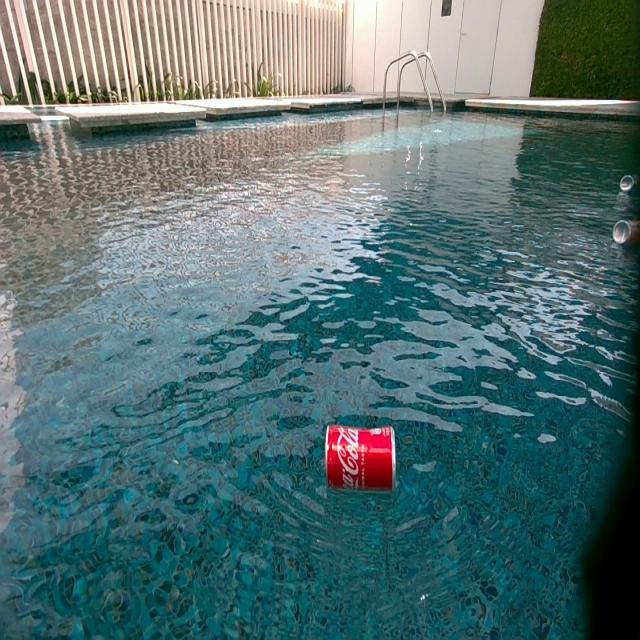Cans: (326, 422, 396, 492), (615, 220, 639, 247), (621, 174, 636, 193)
